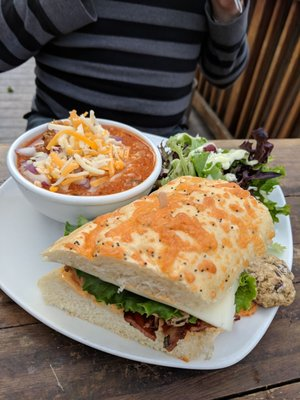sushi: (5, 110, 162, 225)
